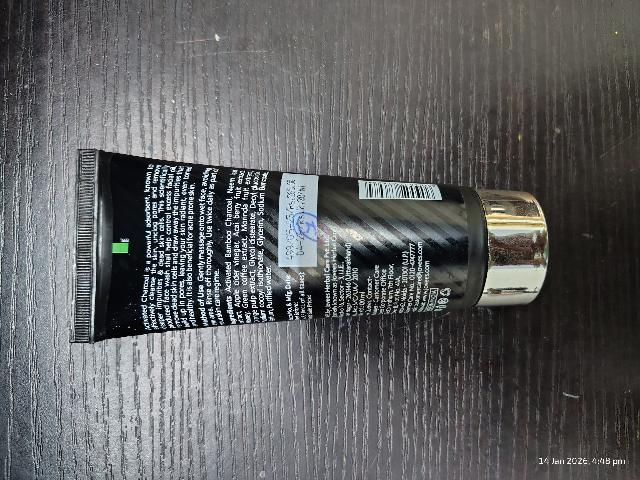jovees herbal: (73, 148, 551, 334)
